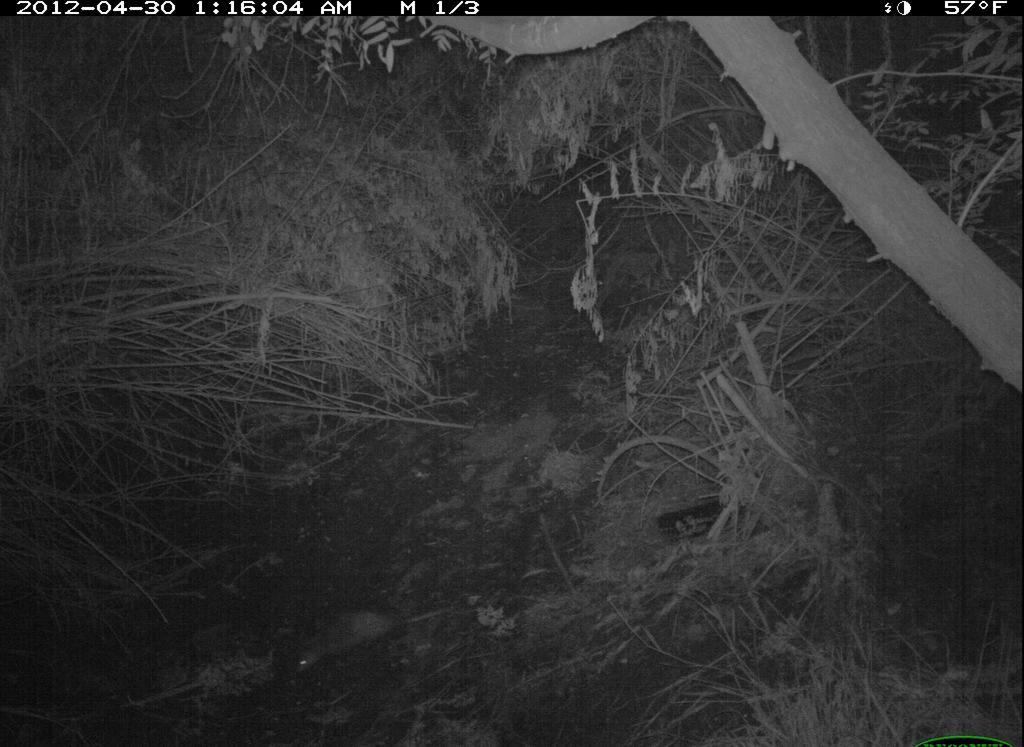opossum: (264, 557, 486, 704)
